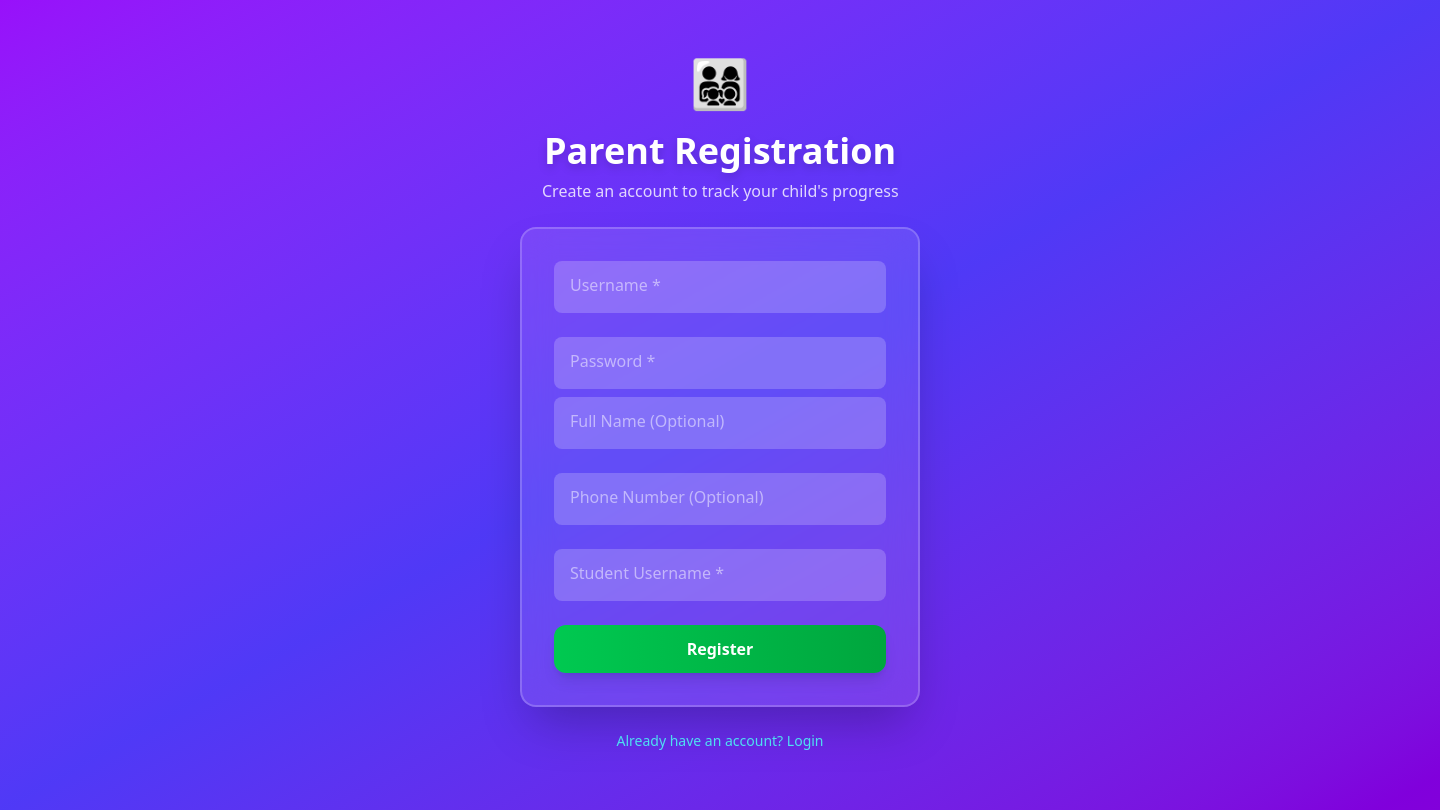
ParentRegister › should show validation error for short username
Type "ab" into the field labelled "Username *".
click(720, 287); type("ab")  # box [554,261,886,313]
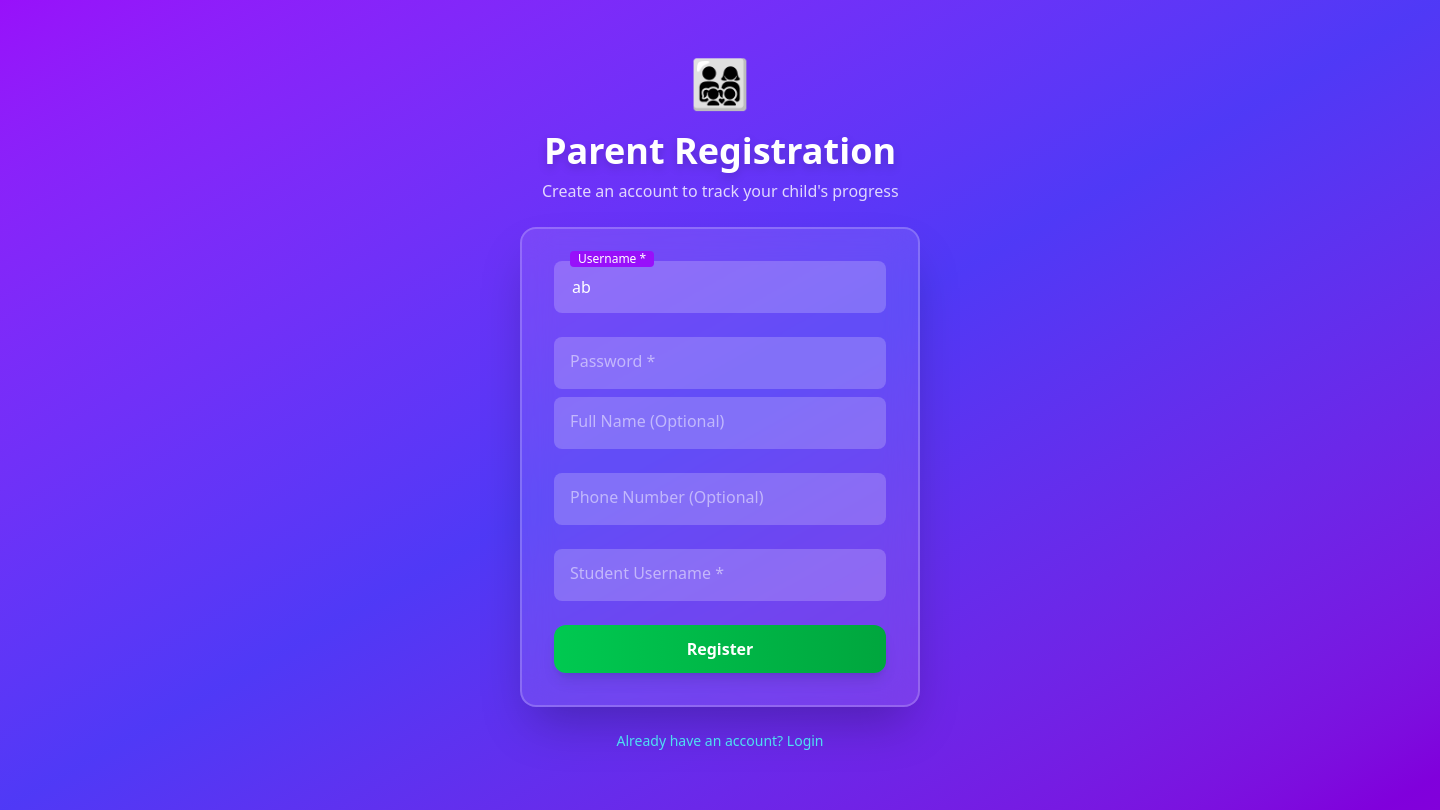
Type "password123" into the password field labelled "Password *".
click(720, 363); type("password123")  # box [554,337,886,389]
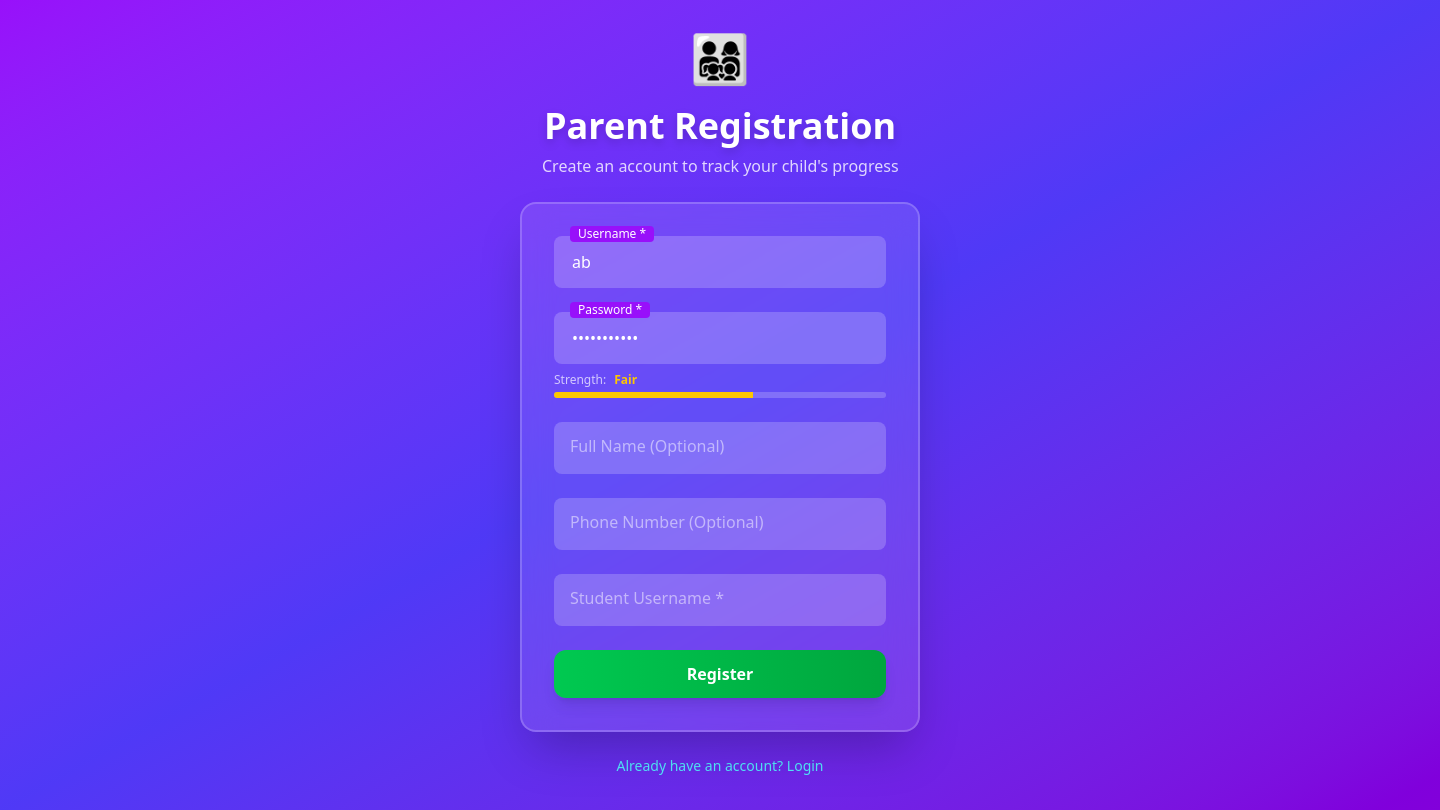
Type "student1" into the field labelled "Student Username *".
click(720, 600); type("student1")  # box [554,574,886,626]
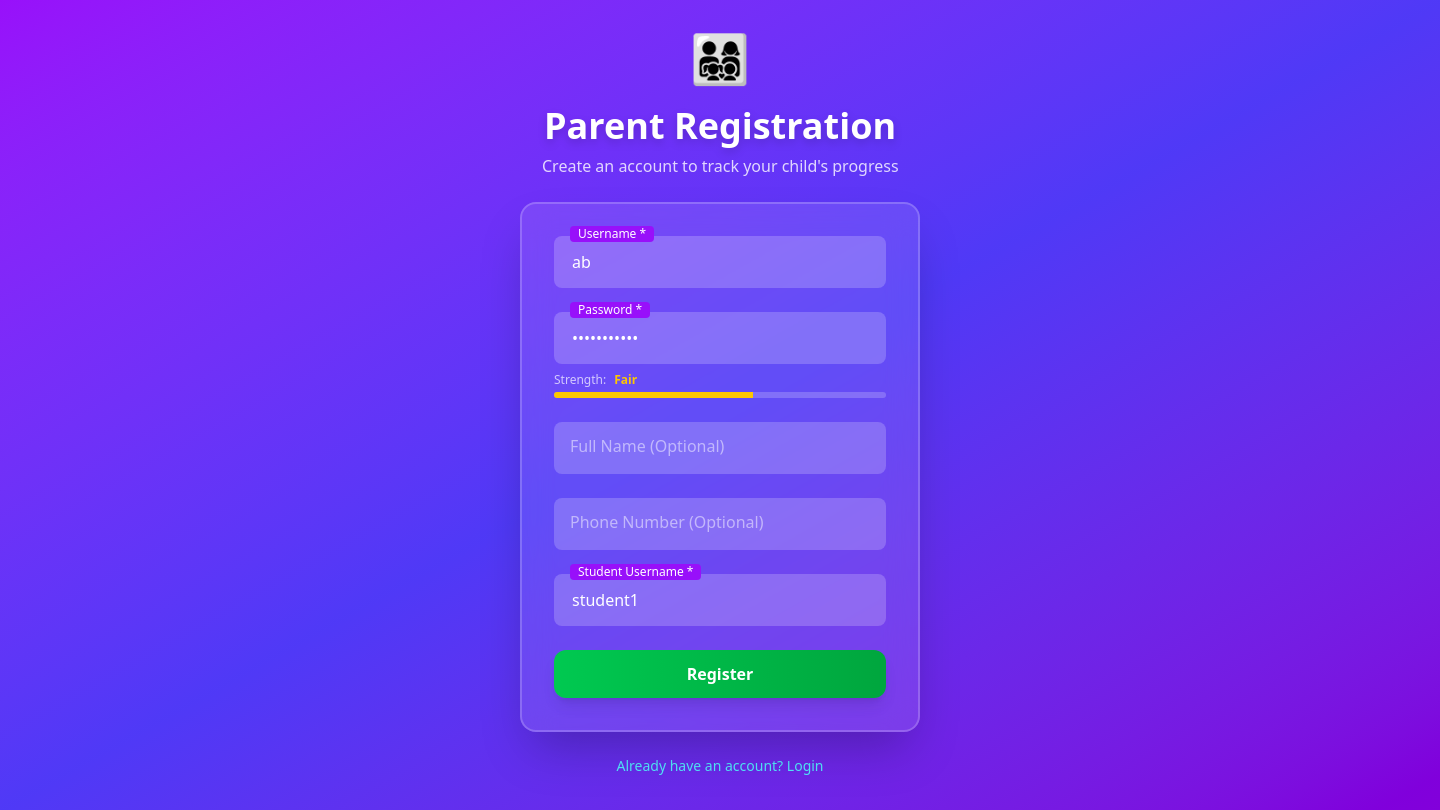
Click the button "Register".
click(720, 674)  # box [554,650,886,698]
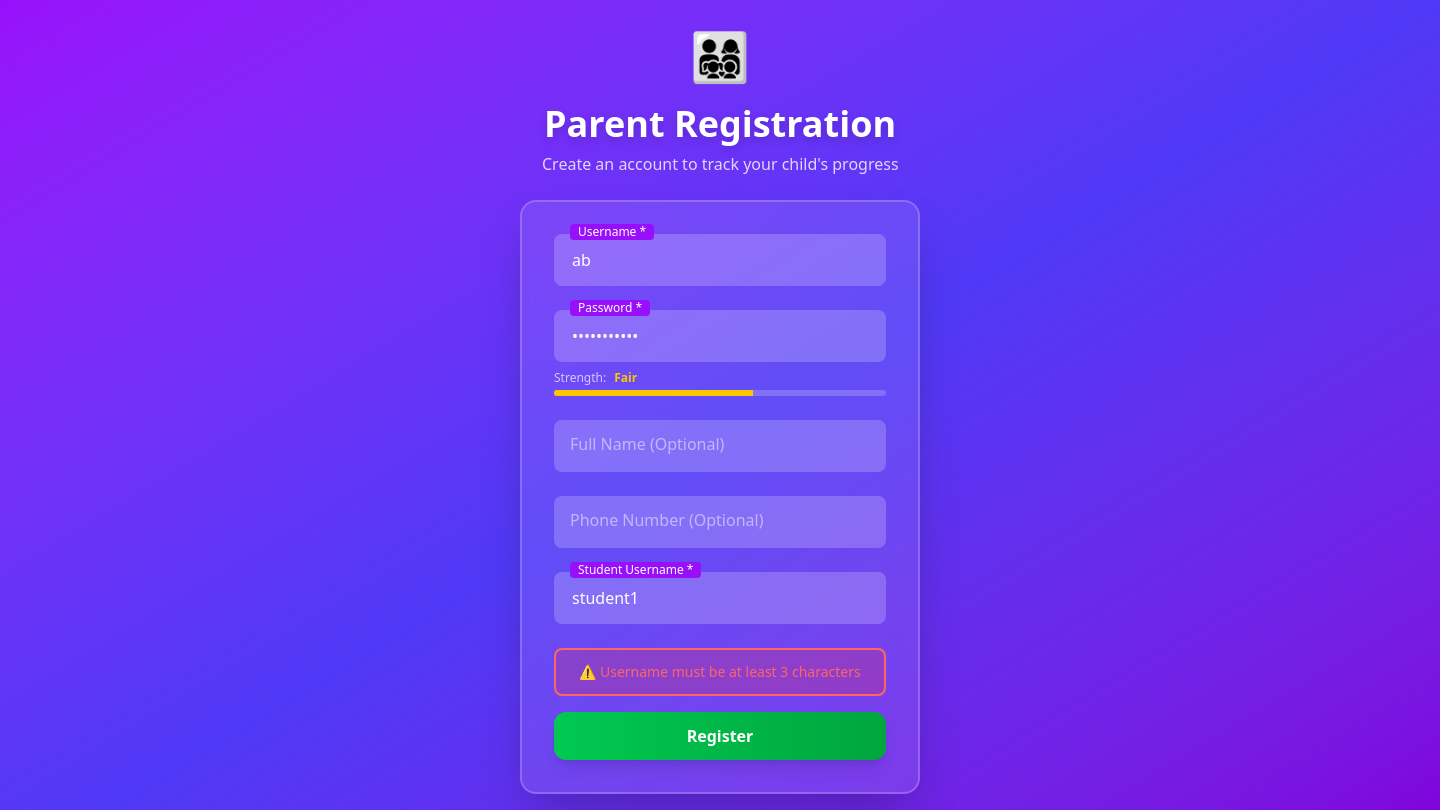
Expected: the text "⚠️ Username must be at least 3 characters" is shown, [568,662,872,682]
